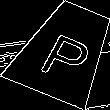P_NE: (33, 20, 96, 82)
